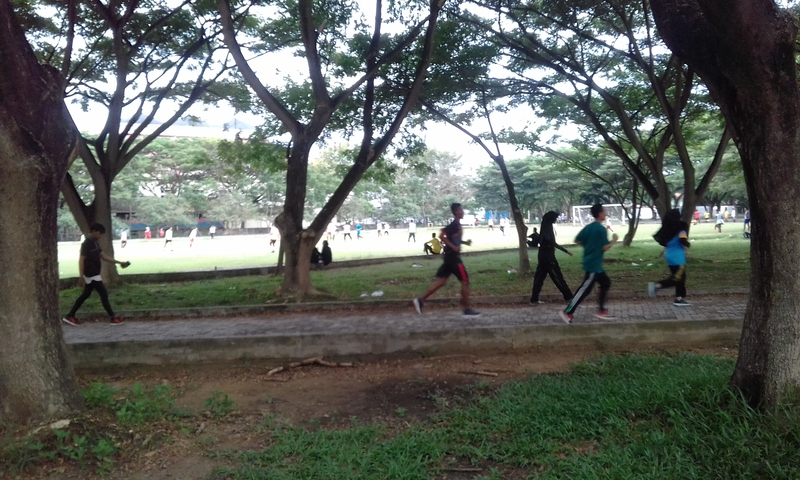person: (408, 199, 485, 321), (556, 202, 624, 327), (61, 218, 137, 329), (644, 206, 699, 310), (527, 203, 579, 307)
